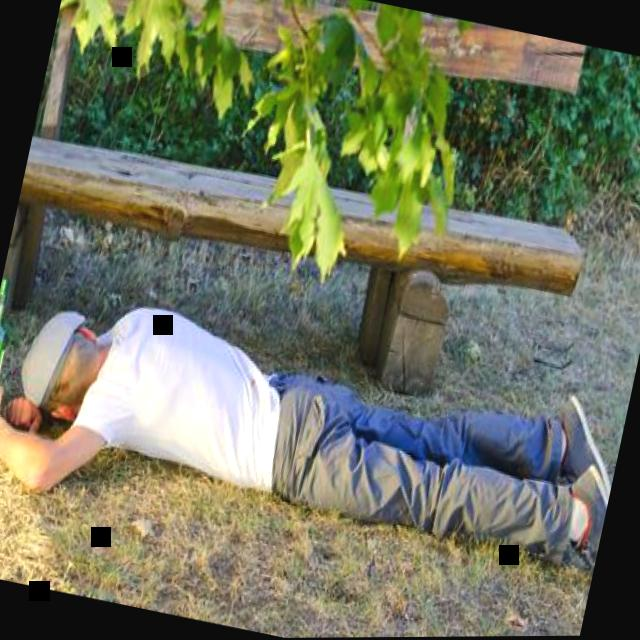Fall-Detected: (0, 271, 628, 601)
